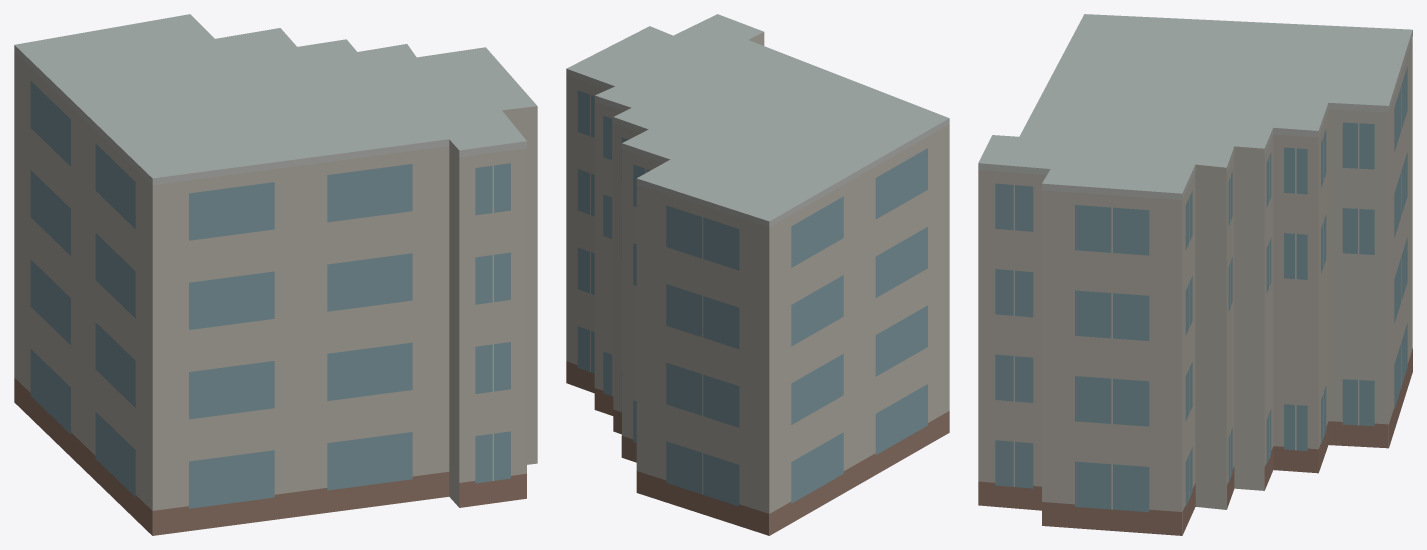
The model's file is survey-upis-32648523.glb.
3 views of the same model, side by side, from view 1: azimuth 30°, elevation 25°; view 2: azimuth 150°, elevation 25°; view 3: azimuth 270°, elevation 25° (orthographic). The views are drawn at different scales.
Visible parts, largest first — view 1: survey-upis-32648523.tmp; view 2: survey-upis-32648523.tmp; view 3: survey-upis-32648523.tmp.
Boxes of the visible parts, x1,y1,x2,y2 form: survey-upis-32648523.tmp: [14, 14, 537, 535]; survey-upis-32648523.tmp: [566, 14, 949, 535]; survey-upis-32648523.tmp: [978, 14, 1412, 535].
Bounding box in the file's own units: 14.42 × 12.8 × 14.74.
